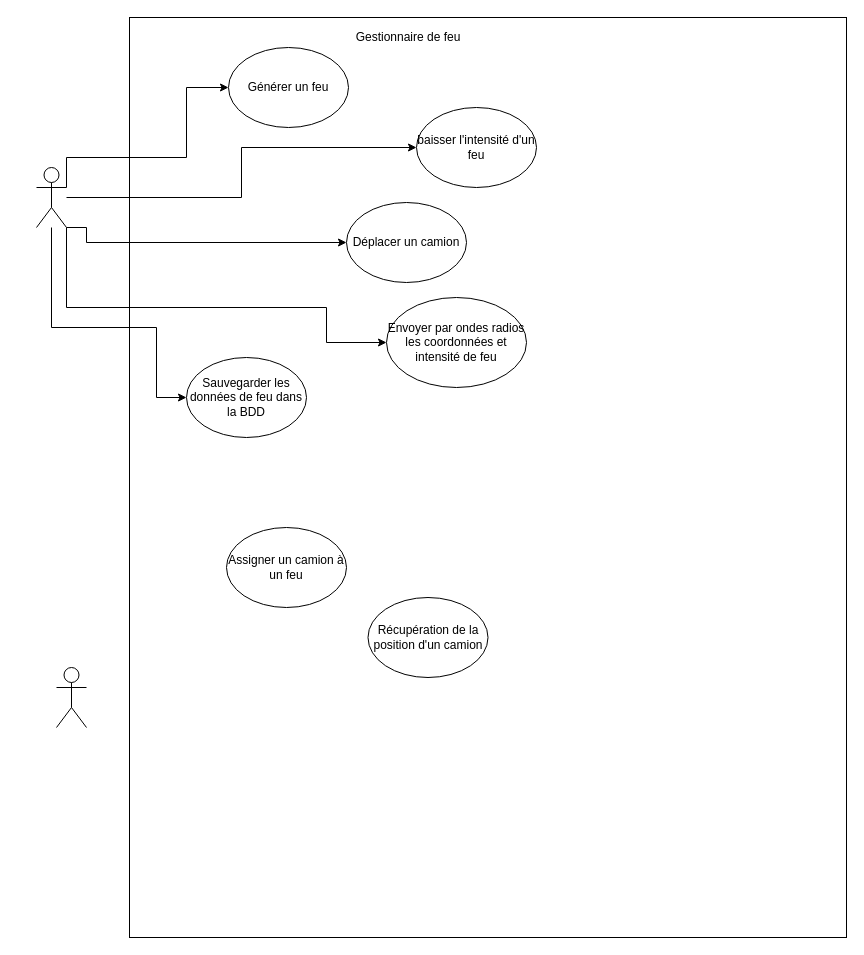
Image size: 864x955. Some labels were removed from this diagram. The shapes that lost their labels are listed below. From the top down, each one's box as (x1, y1, x2, y2) in pixels, then its label:
(36, 166, 66, 228): Simulateur
(56, 666, 86, 728): EmergencyManager
